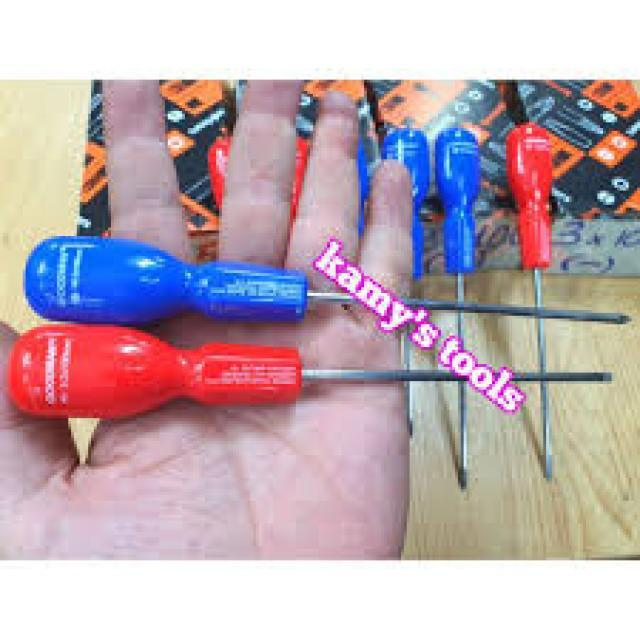screwdriver: (28, 151, 640, 387)
